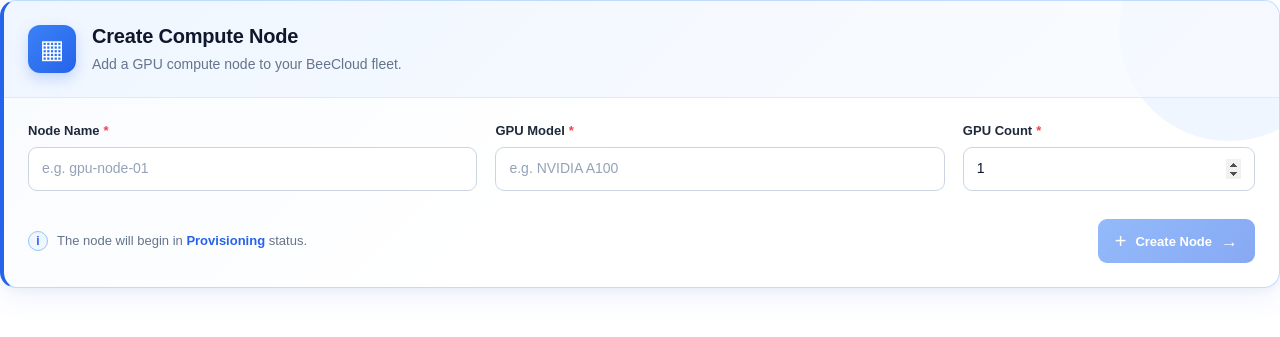
Scenario: CreateNodeForm › shows an error when the GPU model is empty
Type "GPU Node 1" into the field labelled "Node Name" at (253, 169), box [28,147,477,191]
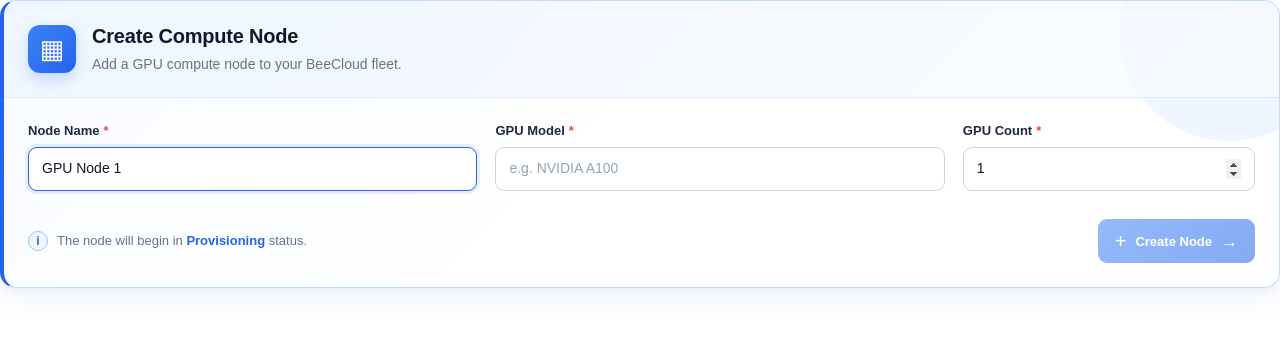
Submit the form named "Create Node", box [4,98,1279,287]
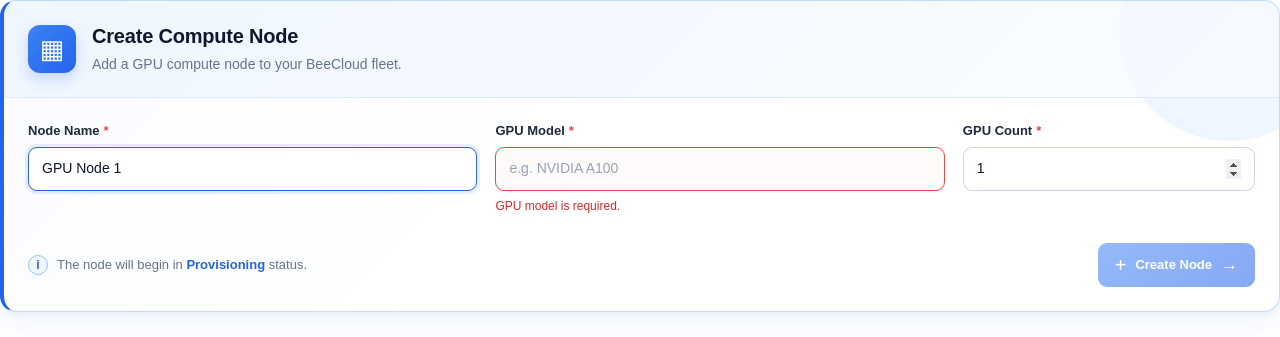
Expected: the message reads "GPU model is required.", [495,199,620,213]
